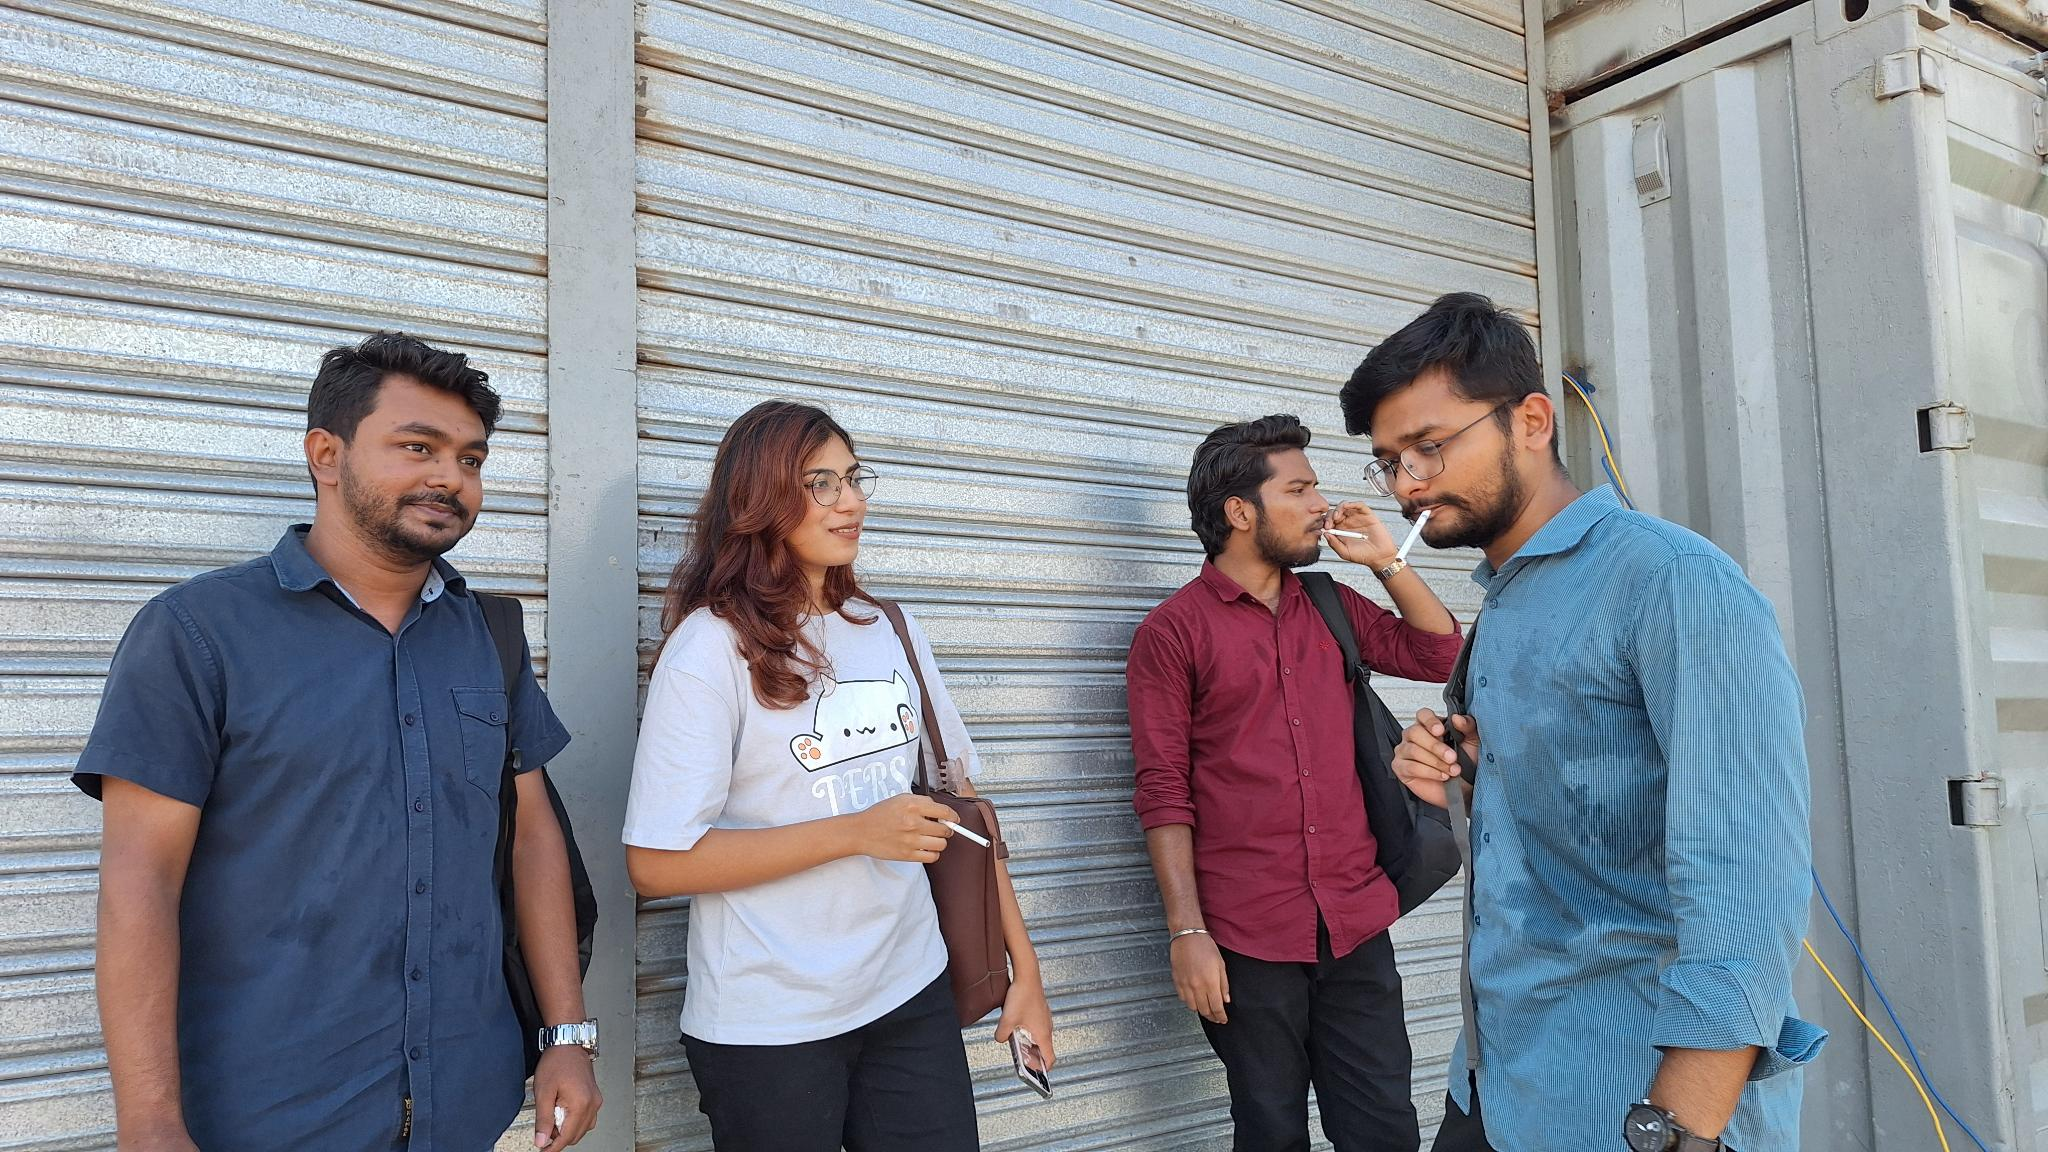cigarette: (1393, 506, 1433, 565), (937, 816, 993, 850), (1319, 526, 1371, 542)
nonSmoker: (70, 338, 603, 1152)
smoker: (1340, 293, 1829, 1152), (623, 399, 1056, 1152), (1125, 412, 1463, 1152)
